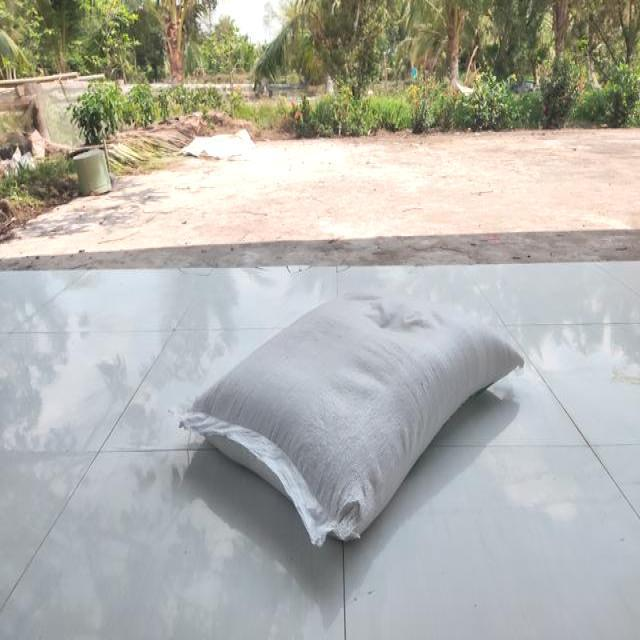gunny_bag: (182, 275, 520, 540)
